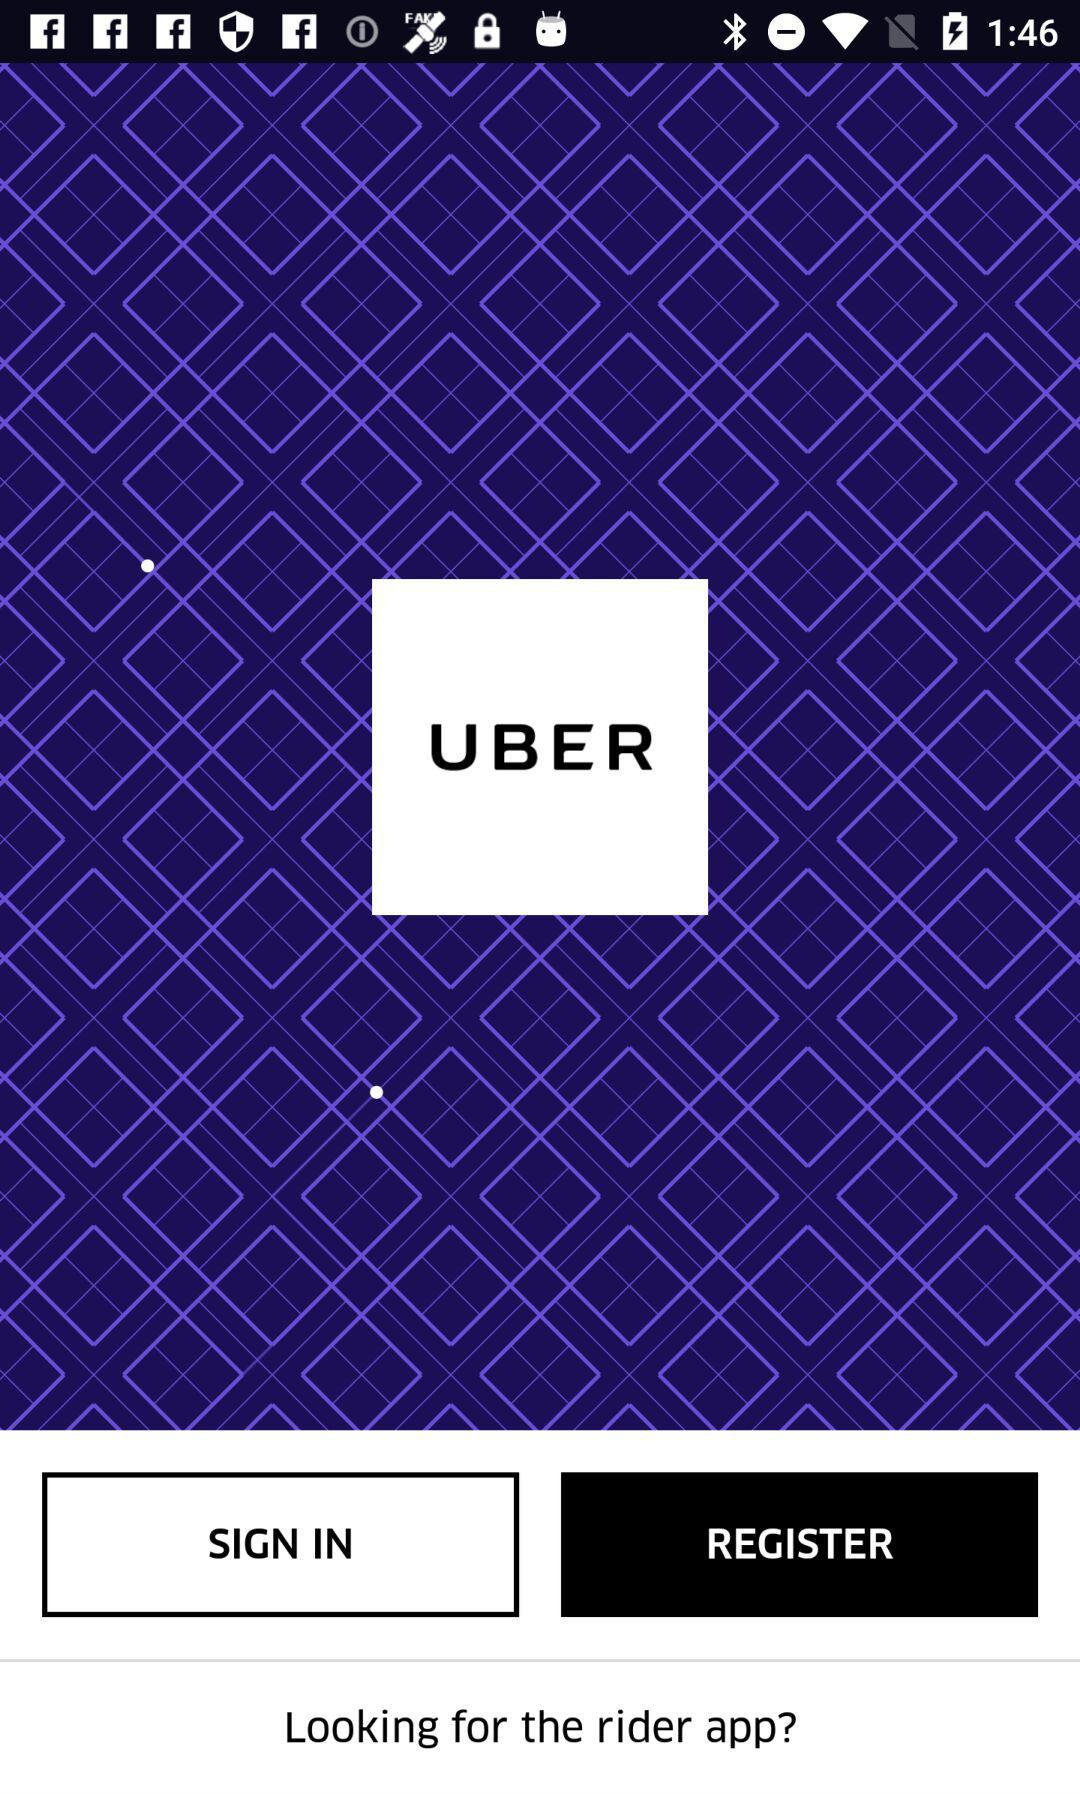Image: (1, 64, 1080, 1431), (372, 579, 708, 916)
TextButton: (1, 1659, 1080, 1794), (561, 1472, 1038, 1618), (44, 1472, 520, 1618)
UpperTaskBar: (1, 1, 1080, 64)
